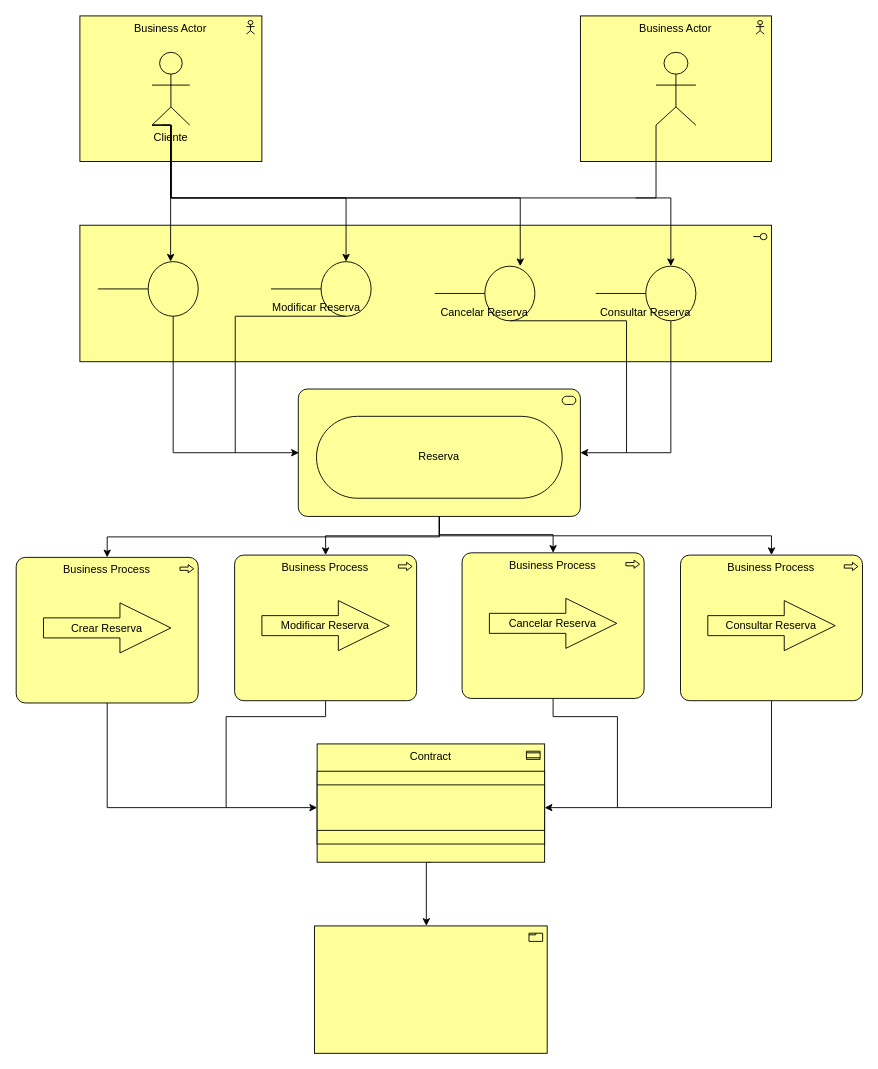
The diagram is 878 pixels wide and 1069 high, and some of its shapes have lost their labels. Each missing label, with the box of its shape:
Business Interface: (79, 224, 771, 362)
Business Service: (297, 388, 580, 516)
Crear Rerserva: (97, 261, 198, 316)
Factura /Confirmación Servicio Estético: (316, 770, 545, 844)
Service: (314, 925, 547, 1053)
Sistema: (655, 51, 696, 125)
